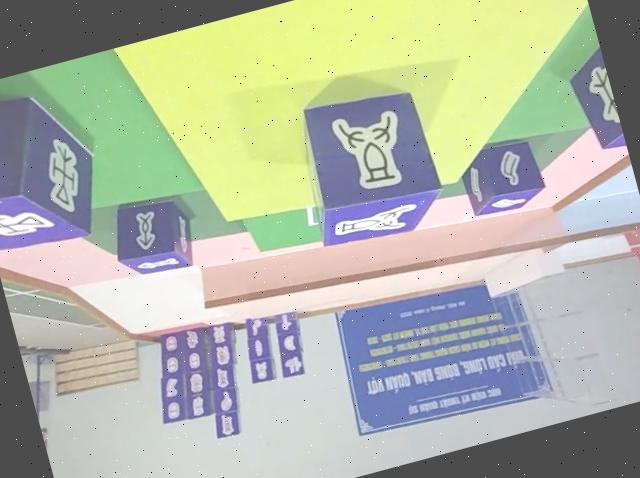R2 Real Blue: (282, 77, 447, 255), (0, 71, 111, 259), (100, 187, 198, 283), (556, 25, 625, 153), (450, 130, 546, 219)
